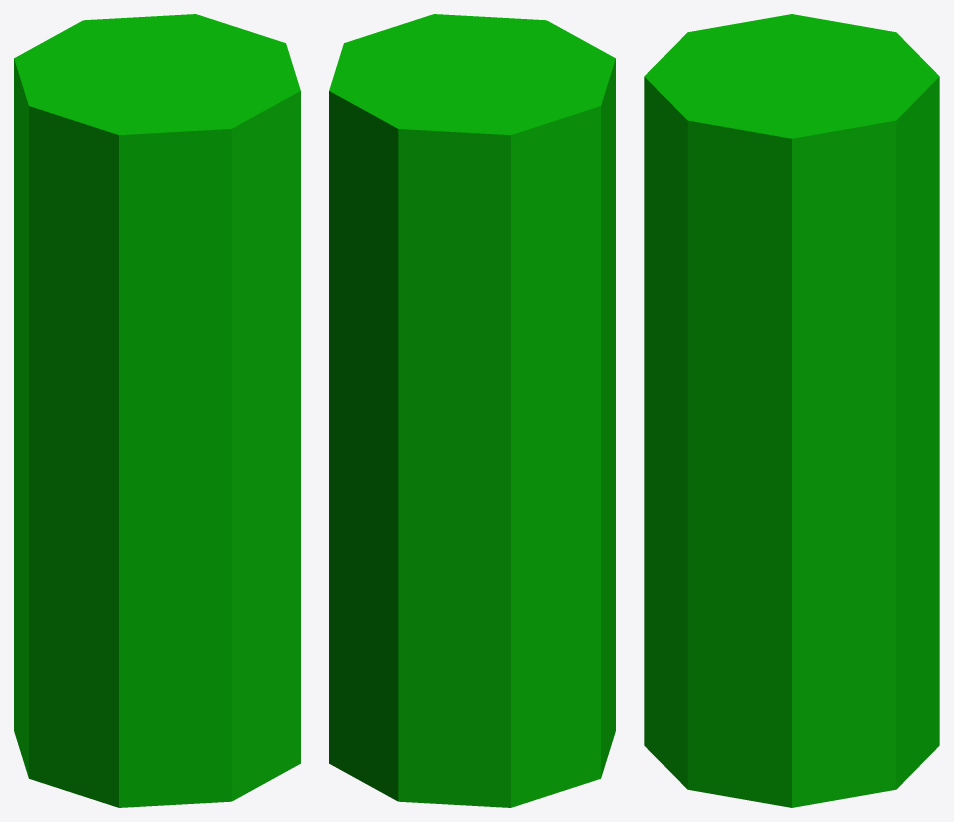
The model's file is miner_laser.obj.
3 renders of one model, left to right at view 1: azimuth 30°, elevation 25°; view 2: azimuth 150°, elevation 25°; view 3: azimuth 270°, elevation 25°, orthographic.
Parts seen in each view (by area): view 1: miner_laser_miner.003; view 2: miner_laser_miner.003; view 3: miner_laser_miner.003.
Boxes of the visible parts, x1=… form: miner_laser_miner.003: x1=14, y1=14, x2=300, y2=807; miner_laser_miner.003: x1=329, y1=14, x2=615, y2=807; miner_laser_miner.003: x1=644, y1=14, x2=939, y2=807.
Bounding box in the file's own units: 0.4 × 1 × 0.4.
1 material, 1 textured.
